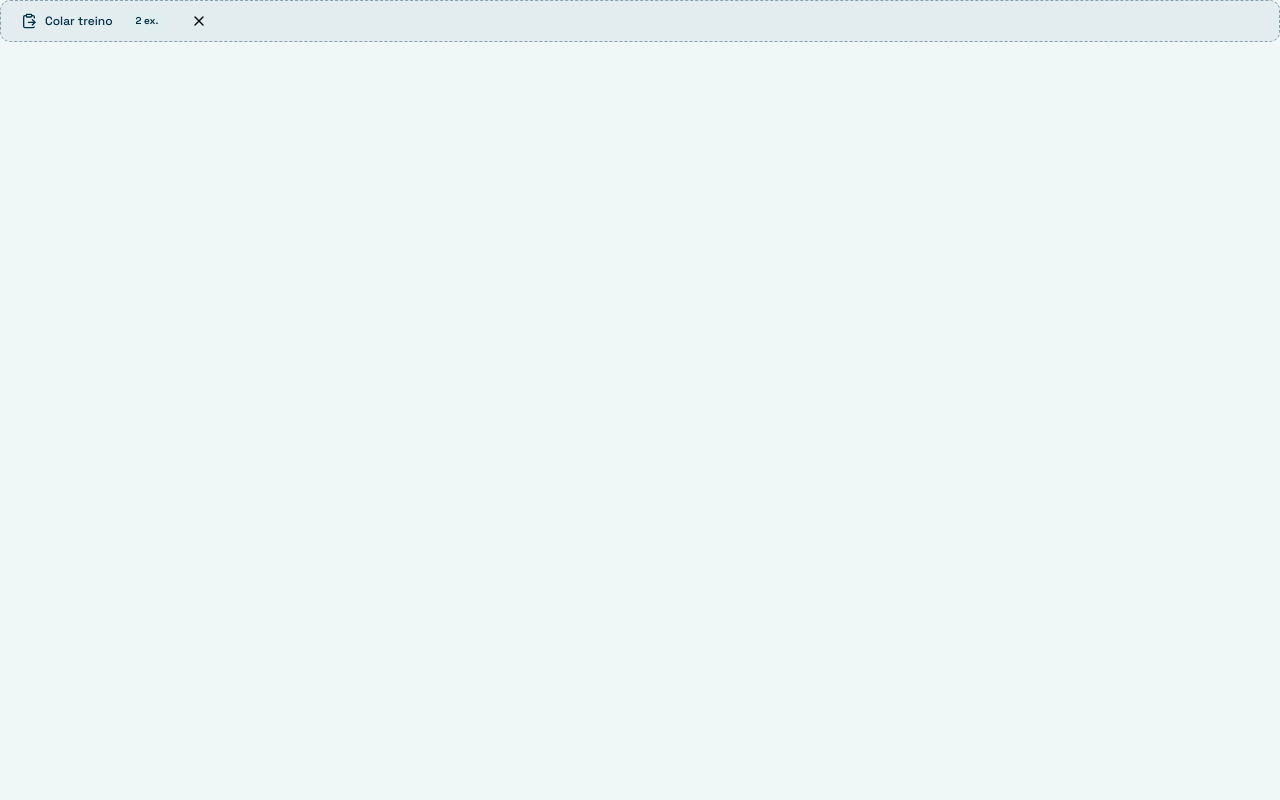
Scenario: ColarTreinoButton › pre-fills the dialog with the clipboard's title and focus
Click the button "Colar treino 2 ex.". click: (95, 21)
box: [9,5,181,37]
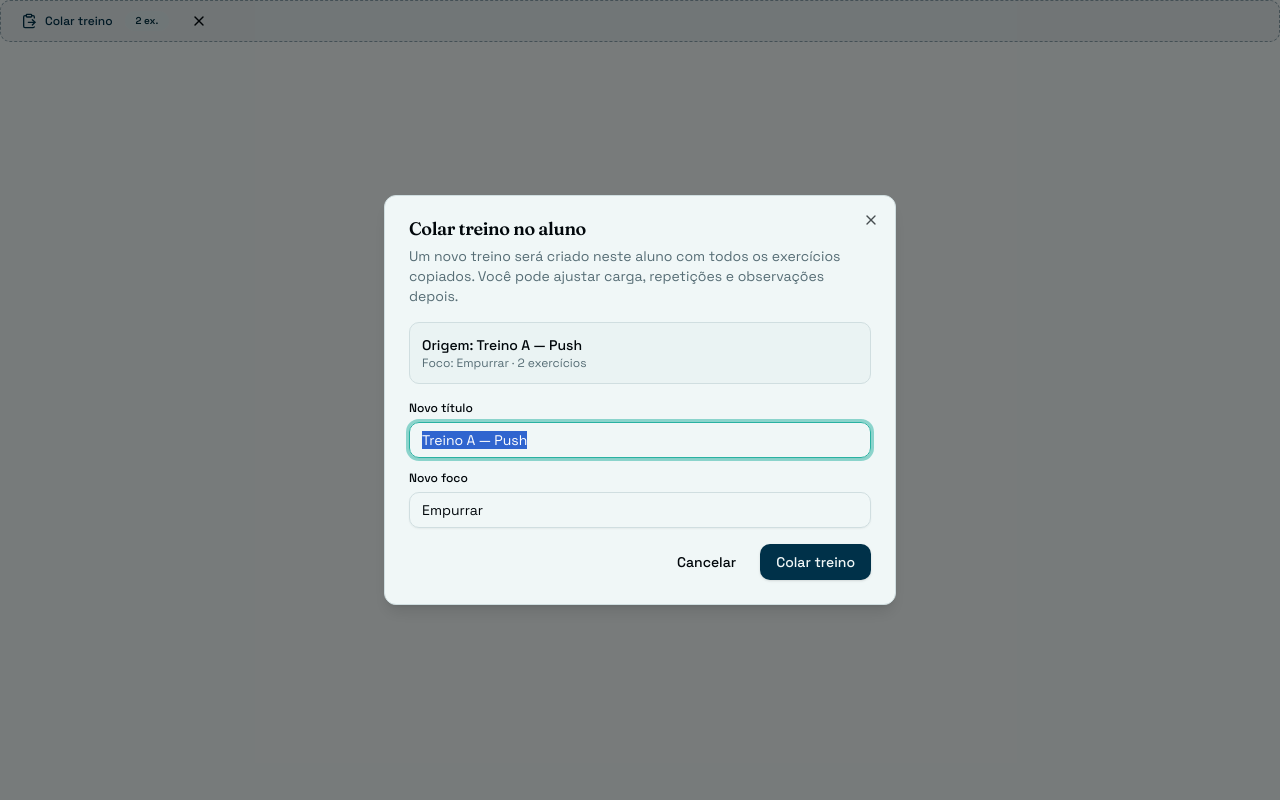
Expected: the field showing "Treino A — Push" below "Novo título" is shown, [409,422,871,458]
Expected: the field showing "Empurrar" below "Novo foco" is shown, [409,492,871,528]
